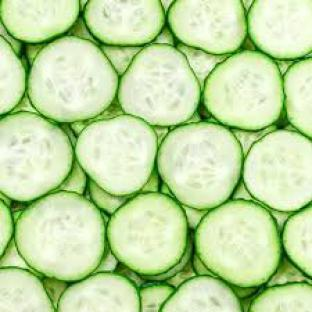Cucumber: (16, 192, 105, 281), (28, 37, 117, 122), (196, 200, 281, 287), (157, 123, 242, 209), (118, 45, 199, 126), (107, 193, 187, 274), (0, 113, 73, 201), (77, 116, 156, 195), (204, 52, 284, 130), (245, 131, 311, 210), (59, 274, 141, 311), (160, 276, 241, 311), (0, 268, 54, 311), (178, 43, 226, 87), (283, 204, 311, 277), (285, 59, 311, 137), (0, 37, 26, 113), (145, 239, 192, 281), (71, 102, 123, 135), (250, 283, 311, 311), (0, 238, 40, 275), (88, 179, 128, 213), (233, 125, 277, 155), (268, 258, 311, 287), (102, 45, 142, 74), (56, 161, 87, 194), (141, 283, 174, 311), (68, 17, 98, 44), (0, 20, 22, 55), (167, 261, 196, 287), (0, 200, 13, 256), (232, 182, 263, 205), (116, 264, 145, 287), (43, 278, 66, 307), (182, 206, 207, 228), (193, 254, 216, 277), (95, 250, 117, 273), (12, 95, 38, 113), (25, 43, 45, 65), (232, 181, 253, 199), (154, 127, 169, 146), (276, 60, 293, 74), (185, 111, 201, 124), (0, 193, 12, 206)
